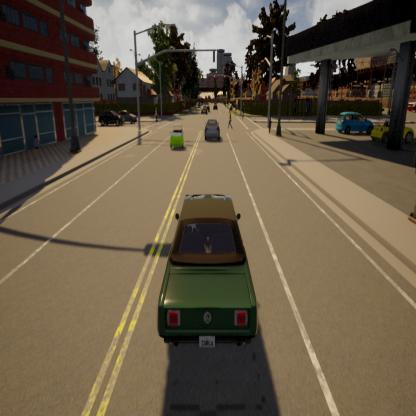Cars: (149, 173, 265, 376), (371, 107, 416, 156), (331, 101, 375, 141), (160, 110, 186, 157), (203, 105, 225, 149), (94, 107, 125, 136), (116, 105, 137, 130), (199, 98, 209, 122), (213, 98, 219, 113)
Pedestrian: (267, 113, 278, 143), (228, 107, 236, 138), (153, 106, 160, 127), (241, 103, 247, 124)
